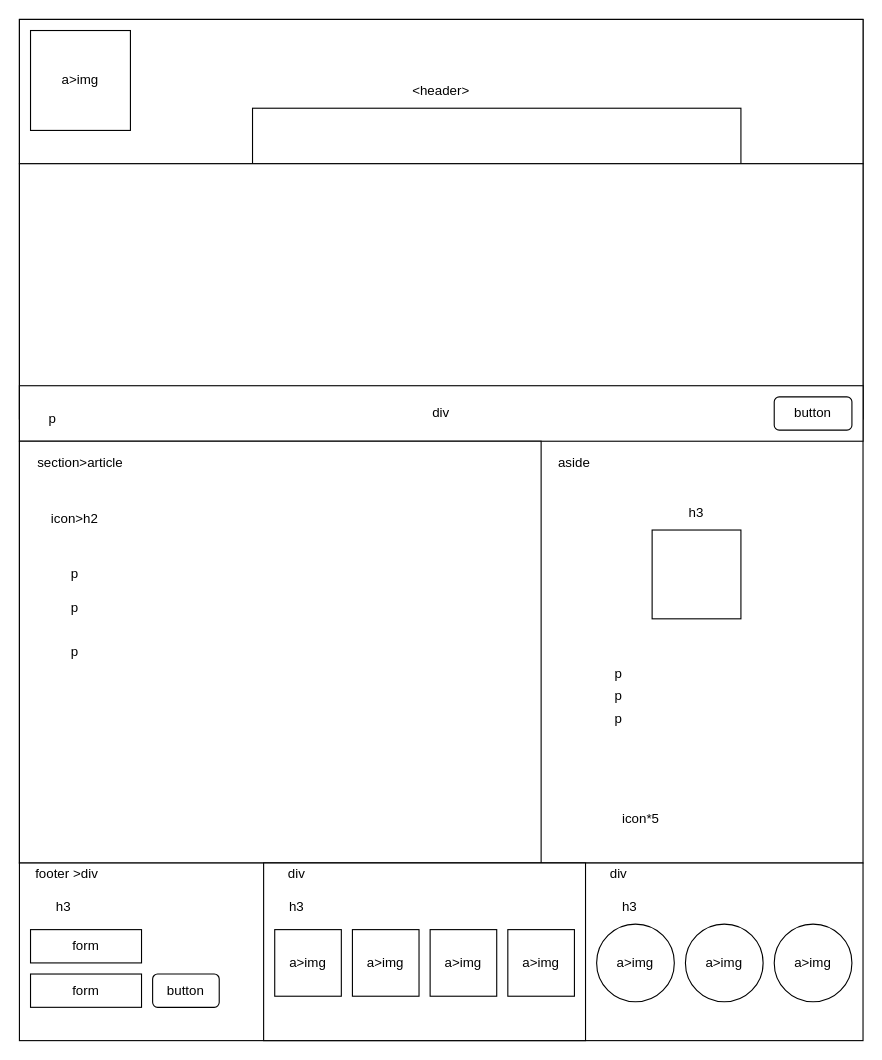
The diagram is 882 pixels wide and 1060 high, and some of its shapes have lost their labels. The shapes that lost their labels are listed below. From the top down, each one's box as (x1, y1, x2, y2) in pixels, then its label:
(251, 107, 741, 164): <nav>a+a+a+a
(18, 163, 863, 419): section>figure>img
(651, 529, 741, 619): img
